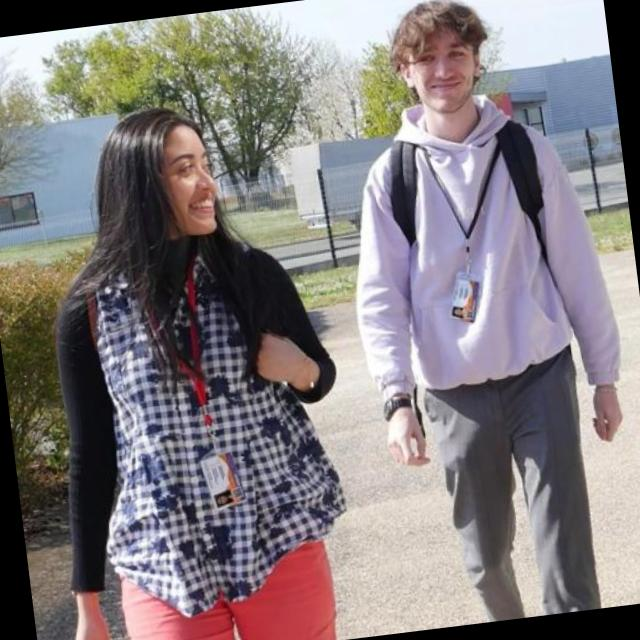id_card: (149, 253, 244, 520), (421, 126, 518, 328)
